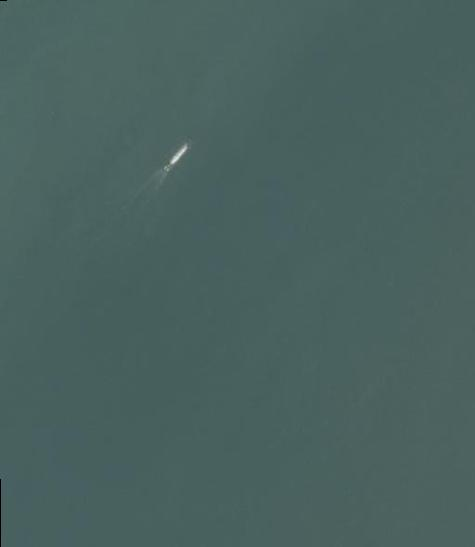ship: (162, 138, 195, 172)
